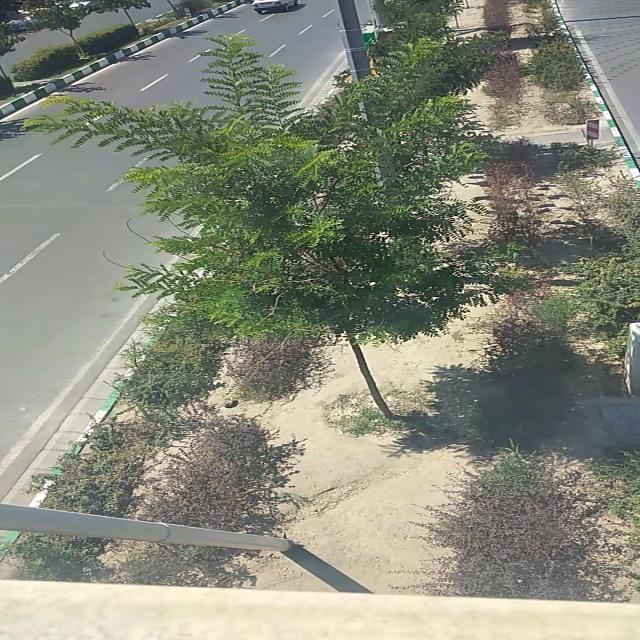car: (248, 1, 307, 13)
